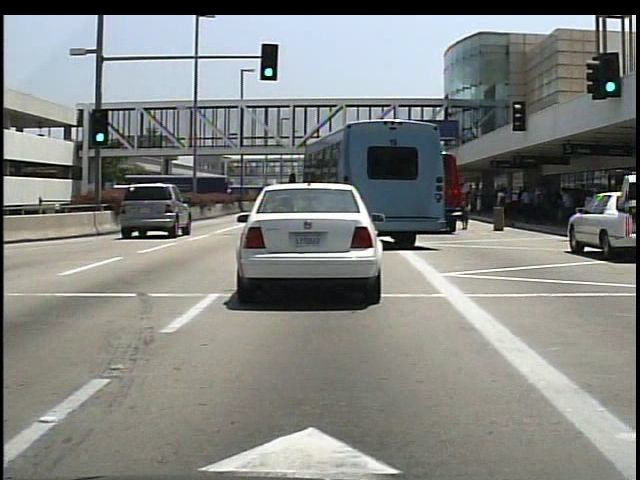person: (458, 184, 471, 234)
